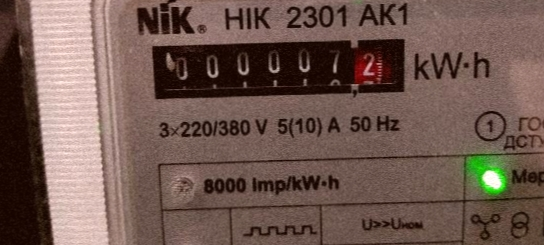0: (233, 48, 252, 75), (203, 50, 221, 78), (295, 44, 312, 73), (172, 53, 190, 80), (265, 46, 281, 73)
2: (360, 48, 377, 77)
7: (325, 45, 342, 74)
screen: (143, 28, 417, 103)
